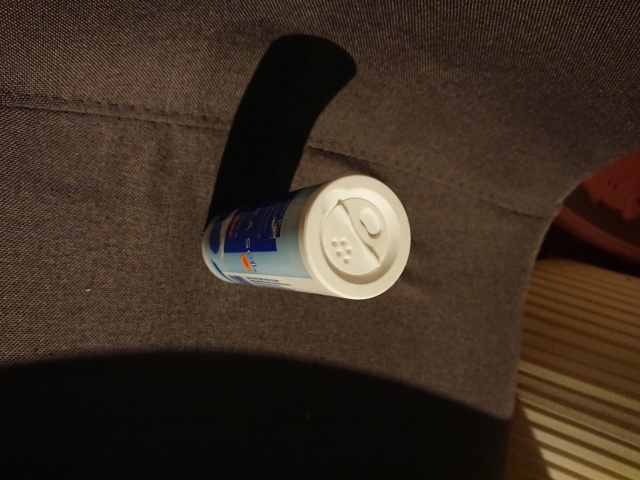Solana Pag Fine Sea Salt 250g: (196, 170, 416, 305)
